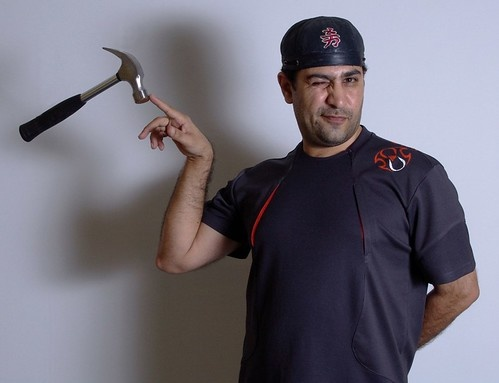hammer: (21, 45, 149, 141)
